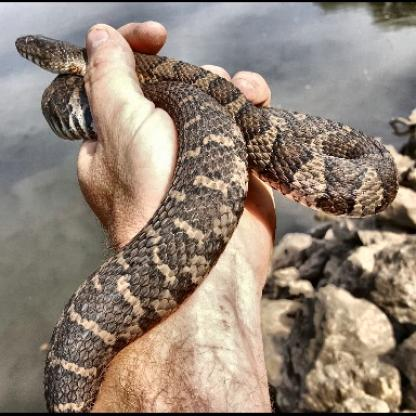Snake: (18, 31, 416, 394)
